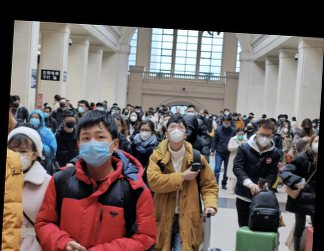with_mask: (79, 128, 112, 168), (8, 145, 32, 171), (167, 122, 185, 143), (256, 130, 271, 147), (28, 114, 40, 128), (139, 126, 151, 140), (63, 117, 75, 128), (310, 138, 318, 153), (77, 103, 86, 114), (41, 108, 49, 118), (186, 108, 194, 117), (245, 122, 253, 131), (129, 113, 137, 121), (221, 120, 230, 127), (236, 132, 243, 141), (281, 124, 288, 133), (303, 123, 310, 132), (59, 100, 66, 108), (95, 103, 102, 111), (158, 116, 164, 124), (144, 114, 151, 120), (224, 109, 229, 115), (233, 114, 238, 119), (212, 115, 216, 120), (312, 121, 316, 126)
